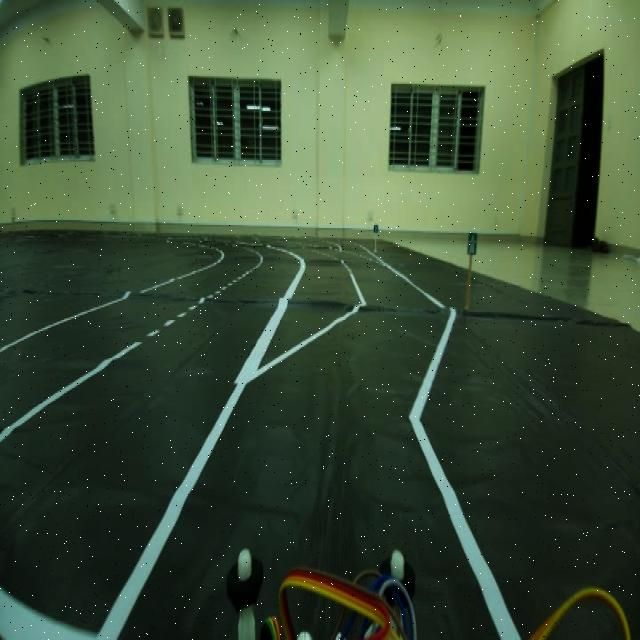highway_entry: (465, 226, 481, 260)
